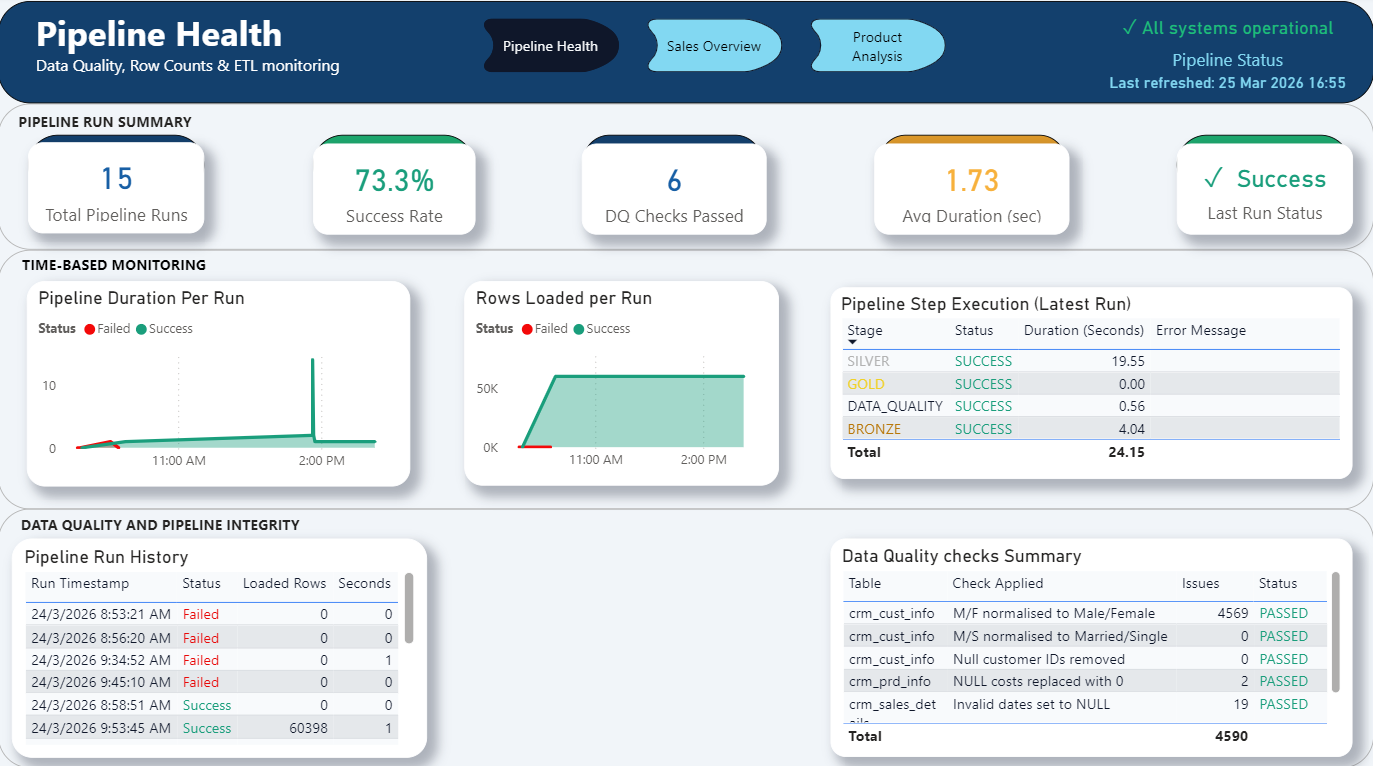

What the dashboard file says about the page in this screenshot:
{"tool":"powerbi","page":{"name":"Pipeline Health","canvas":[1280,720],"ordinal":0},"visuals":[{"type":"textbox","box":[0,477.1,1280.2,241.5],"z":0},{"type":"textbox","box":[0,235.6,1280.2,241.5],"z":1000},{"type":"textbox","box":[0,99.9,1280.2,135.6],"z":2000},{"type":"textbox","box":[1096.7,129.3,161.8,55.9],"z":3000},{"type":"textbox","box":[819.5,129.3,173.7,50],"z":4000},{"type":"textbox","box":[544.6,129.3,166.6,50],"z":5000},{"type":"textbox","box":[293.6,129.3,149.9,55.9],"z":6000},{"type":"textbox","box":[28.3,129.3,164.2,55.9],"z":7000},{"type":"textbox","box":[0,4.8,1280.2,95.2],"z":8000},{"type":"textbox","box":[29.7,7.1,326,75],"z":9000},{"type":"pageNavigator","box":[442.5,21.2,448.8,50],"z":10000},{"type":"card","fields":{"Values":["gold dim_customers.DQ Checks Passed"]},"box":[542.6,136.6,172.1,84.9],"z":11000},{"type":"tableEx","title":"Data Quality checks Summary","fields":{"Values":["gold pipeline_dq_summary.table_name","gold pipeline_dq_summary.check_applied","Sum(gold pipeline_dq_summary.issues_found)","gold pipeline_dq_summary.status"]},"box":[774.6,504.5,485.4,203.5],"z":12000},{"type":"card","fields":{"Values":["gold dim_customers.Last Refreshed"]},"box":[1008.2,59.2,272.1,45.1],"z":13000},{"type":"card","fields":{"Values":["gold dim_customers.Pipeline Status"]},"box":[1008.2,0,272.1,81.8],"z":14000},{"type":"card","fields":{"Values":["gold dim_customers.Total Runs"]},"box":[28.3,136.5,164.2,84.5],"z":15000},{"type":"card","fields":{"Values":["gold dim_customers.Success Rate"]},"box":[292.6,136.6,151.2,84.9],"z":16000},{"type":"tableEx","title":"Pipeline Run History","fields":{"Values":["monitoring pipeline_run_log.run_timestamp","monitoring pipeline_run_log.status","Sum(monitoring pipeline_run_log.rows_loaded)","Sum(monitoring pipeline_run_log.duration_seconds)"]},"box":[12.7,504.1,386.2,203.9],"z":17000},{"type":"textbox","box":[14.3,101.8,1246.9,30.9],"z":18000},{"type":"card","fields":{"Values":["monitoring pipeline_run_log.Avg Duration (sec)"]},"box":[814.7,136.6,181.4,84.9],"z":19000},{"type":"card","fields":{"Values":["gold dim_customers.Last Run Status"]},"box":[1096,136.6,164,84.9],"z":20000},{"type":"textbox","box":[16.9,235.5,201.6,31],"z":21000},{"type":"areaChart","title":"Pipeline Duration Per Run","fields":{"Category":["monitoring pipeline_run_log.run_timestamp"],"Y":["Sum(monitoring pipeline_run_log.duration_seconds)"],"Series":["monitoring pipeline_run_log.status"]},"box":[26.6,264.8,356.6,191],"z":22000},{"type":"textbox","box":[16.5,477.4,306.5,31.7],"z":23000},{"type":"tableEx","title":"Pipeline Step Execution (Latest Run)","fields":{"Values":["monitoring step_log.step_name","monitoring step_log.status","Sum(monitoring step_log.duration_seconds)","monitoring step_log.error_message"]},"box":[774.6,271.3,485.4,178.5],"z":24000},{"type":"stackedAreaChart","title":"Rows Loaded per Run","fields":{"Category":["monitoring pipeline_run_log.run_timestamp"],"Y":["Sum(monitoring pipeline_run_log.rows_loaded)"],"Series":["monitoring pipeline_run_log.status"]},"box":[434.3,265.3,292.7,190.4],"z":25000}]}

Visuals, with their boxes in screenshot pixels (x1, y1, x2, y2), scaled from the page's 1280x720 canvas onto the 1373x766 screenshot:
textbox: [0,508,1372,765]
textbox: [0,251,1372,508]
textbox: [0,106,1372,251]
textbox: [1176,138,1350,197]
textbox: [879,138,1065,191]
textbox: [584,138,763,191]
textbox: [315,138,476,197]
textbox: [30,138,206,197]
textbox: [0,5,1372,106]
textbox: [32,8,382,87]
pageNavigator: [475,23,956,76]
card - gold dim_customers.DQ Checks Passed: [582,145,767,236]
"Data Quality checks Summary" tableEx: [831,537,1352,753]
card - gold dim_customers.Last Refreshed: [1081,63,1372,111]
card - gold dim_customers.Pipeline Status: [1081,0,1372,87]
card - gold dim_customers.Total Runs: [30,145,206,235]
card - gold dim_customers.Success Rate: [314,145,476,236]
"Pipeline Run History" tableEx: [14,536,428,753]
textbox: [15,108,1353,141]
card - monitoring pipeline_run_log.Avg Duration (sec): [874,145,1068,236]
card - gold dim_customers.Last Run Status: [1176,145,1352,236]
textbox: [18,251,234,284]
"Pipeline Duration Per Run" areaChart: [29,282,411,485]
textbox: [18,508,346,542]
"Pipeline Step Execution (Latest Run)" tableEx: [831,289,1352,479]
"Rows Loaded per Run" stackedAreaChart: [466,282,780,485]
